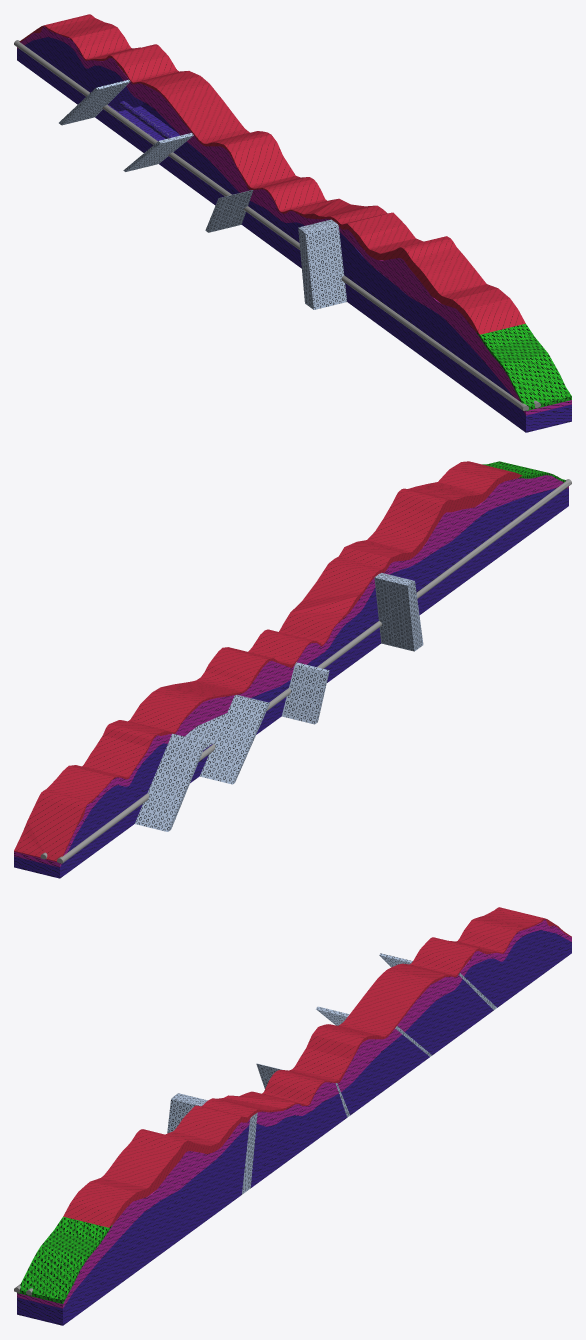
The model's file is zz_Sec.obj.
3 views of the same model, one above another, from view 1: azimuth 30°, elevation 25°; view 2: azimuth 150°, elevation 25°; view 3: azimuth 330°, elevation 25° (orthographic).
Parts seen in each view (by area): view 1: 3, 0, 1, fractures, 2, tunnel_right; view 2: 3, 0, fractures, 1, tunnel_right, 2; view 3: 0, 3, 1, 2, fractures.
Boxes of the visible parts, box(x1,y1,x2,y2) form: 3: box(19, 14, 525, 334); 0: box(17, 37, 571, 432); 1: box(17, 26, 571, 415); fractures: box(59, 79, 346, 309); 2: box(476, 323, 571, 410); tunnel_right: box(14, 40, 528, 410); 3: box(14, 461, 522, 861); 0: box(14, 488, 568, 878); fractures: box(135, 573, 423, 831); 1: box(14, 475, 568, 867); tunnel_right: box(57, 479, 571, 863); 2: box(482, 461, 565, 482); 0: box(17, 930, 571, 1325); 3: box(63, 907, 571, 1227); 1: box(17, 919, 571, 1308); 2: box(17, 1216, 112, 1303); fractures: box(167, 953, 496, 1194).
Bounding box in the file's own units: 155 × 177 × 1724.
6 materials, 5 textured.
